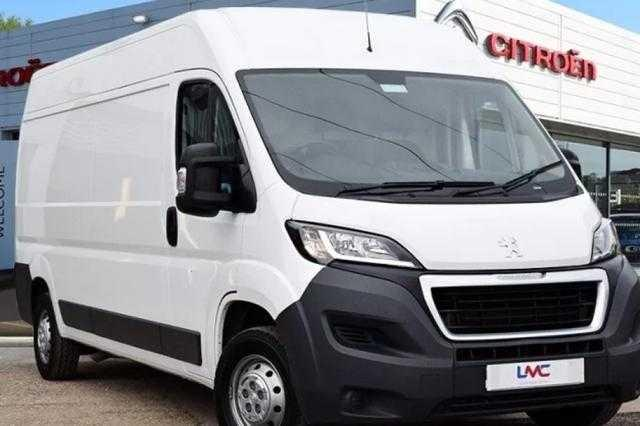car: (14, 9, 640, 426)
